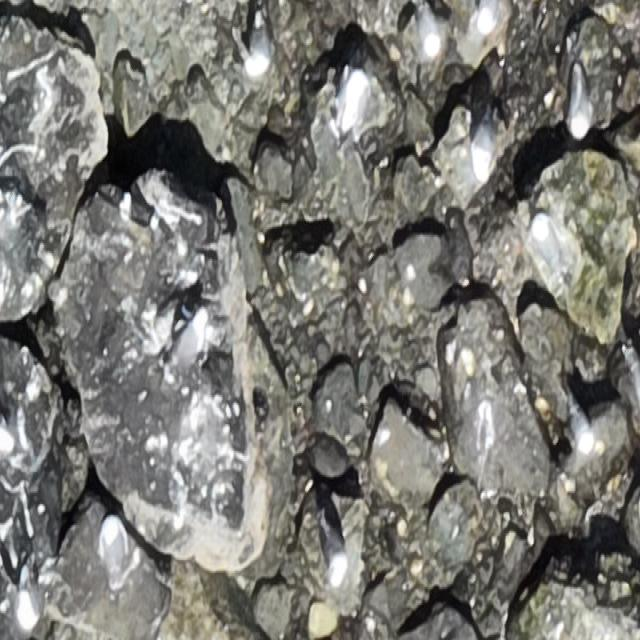umineko: (317, 499, 347, 586), (171, 308, 211, 372), (472, 104, 502, 184), (533, 209, 560, 271), (99, 517, 123, 586), (566, 396, 594, 454), (18, 567, 38, 633), (417, 0, 440, 57), (250, 24, 270, 70)
